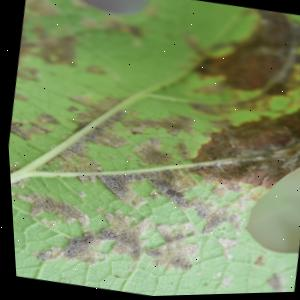Fungo: (4, 83, 260, 295), (9, 184, 204, 287), (83, 153, 247, 244), (175, 0, 300, 109), (37, 87, 136, 190), (84, 205, 154, 265), (30, 222, 108, 272), (59, 100, 133, 152), (135, 162, 207, 214), (9, 186, 90, 230), (116, 105, 196, 145), (61, 89, 128, 134), (89, 166, 149, 212), (185, 197, 242, 241), (139, 235, 197, 275), (5, 106, 60, 145), (64, 0, 154, 22), (126, 134, 177, 170), (50, 153, 104, 187), (42, 136, 92, 172), (148, 217, 196, 249), (102, 226, 143, 261), (89, 205, 135, 234), (56, 229, 94, 263), (82, 125, 129, 151), (8, 164, 31, 210), (77, 223, 117, 248), (114, 186, 146, 212), (72, 247, 105, 268), (210, 236, 236, 261), (32, 243, 62, 264), (259, 272, 285, 294), (8, 164, 29, 190), (169, 141, 193, 162), (91, 226, 116, 243), (173, 220, 195, 238), (35, 111, 58, 126), (35, 215, 58, 229), (145, 191, 159, 201), (9, 186, 15, 207), (72, 190, 85, 198)
